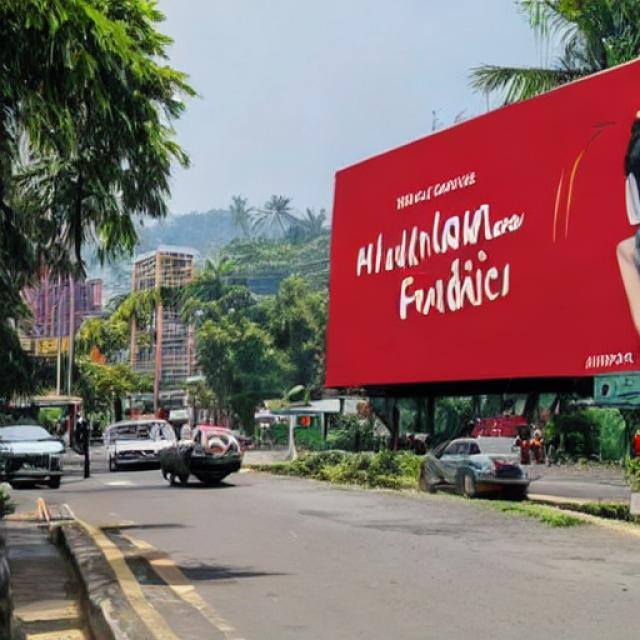Billboard: (326, 52, 640, 405)
